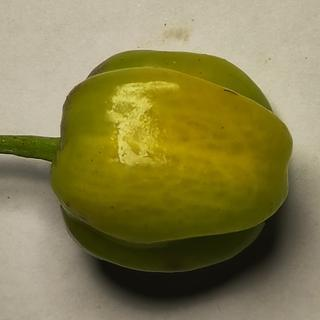Grade-B: (44, 40, 295, 277)
